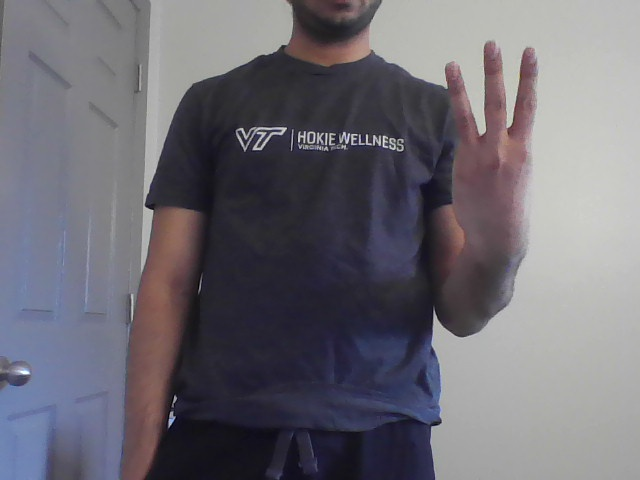three: (436, 36, 546, 218)
